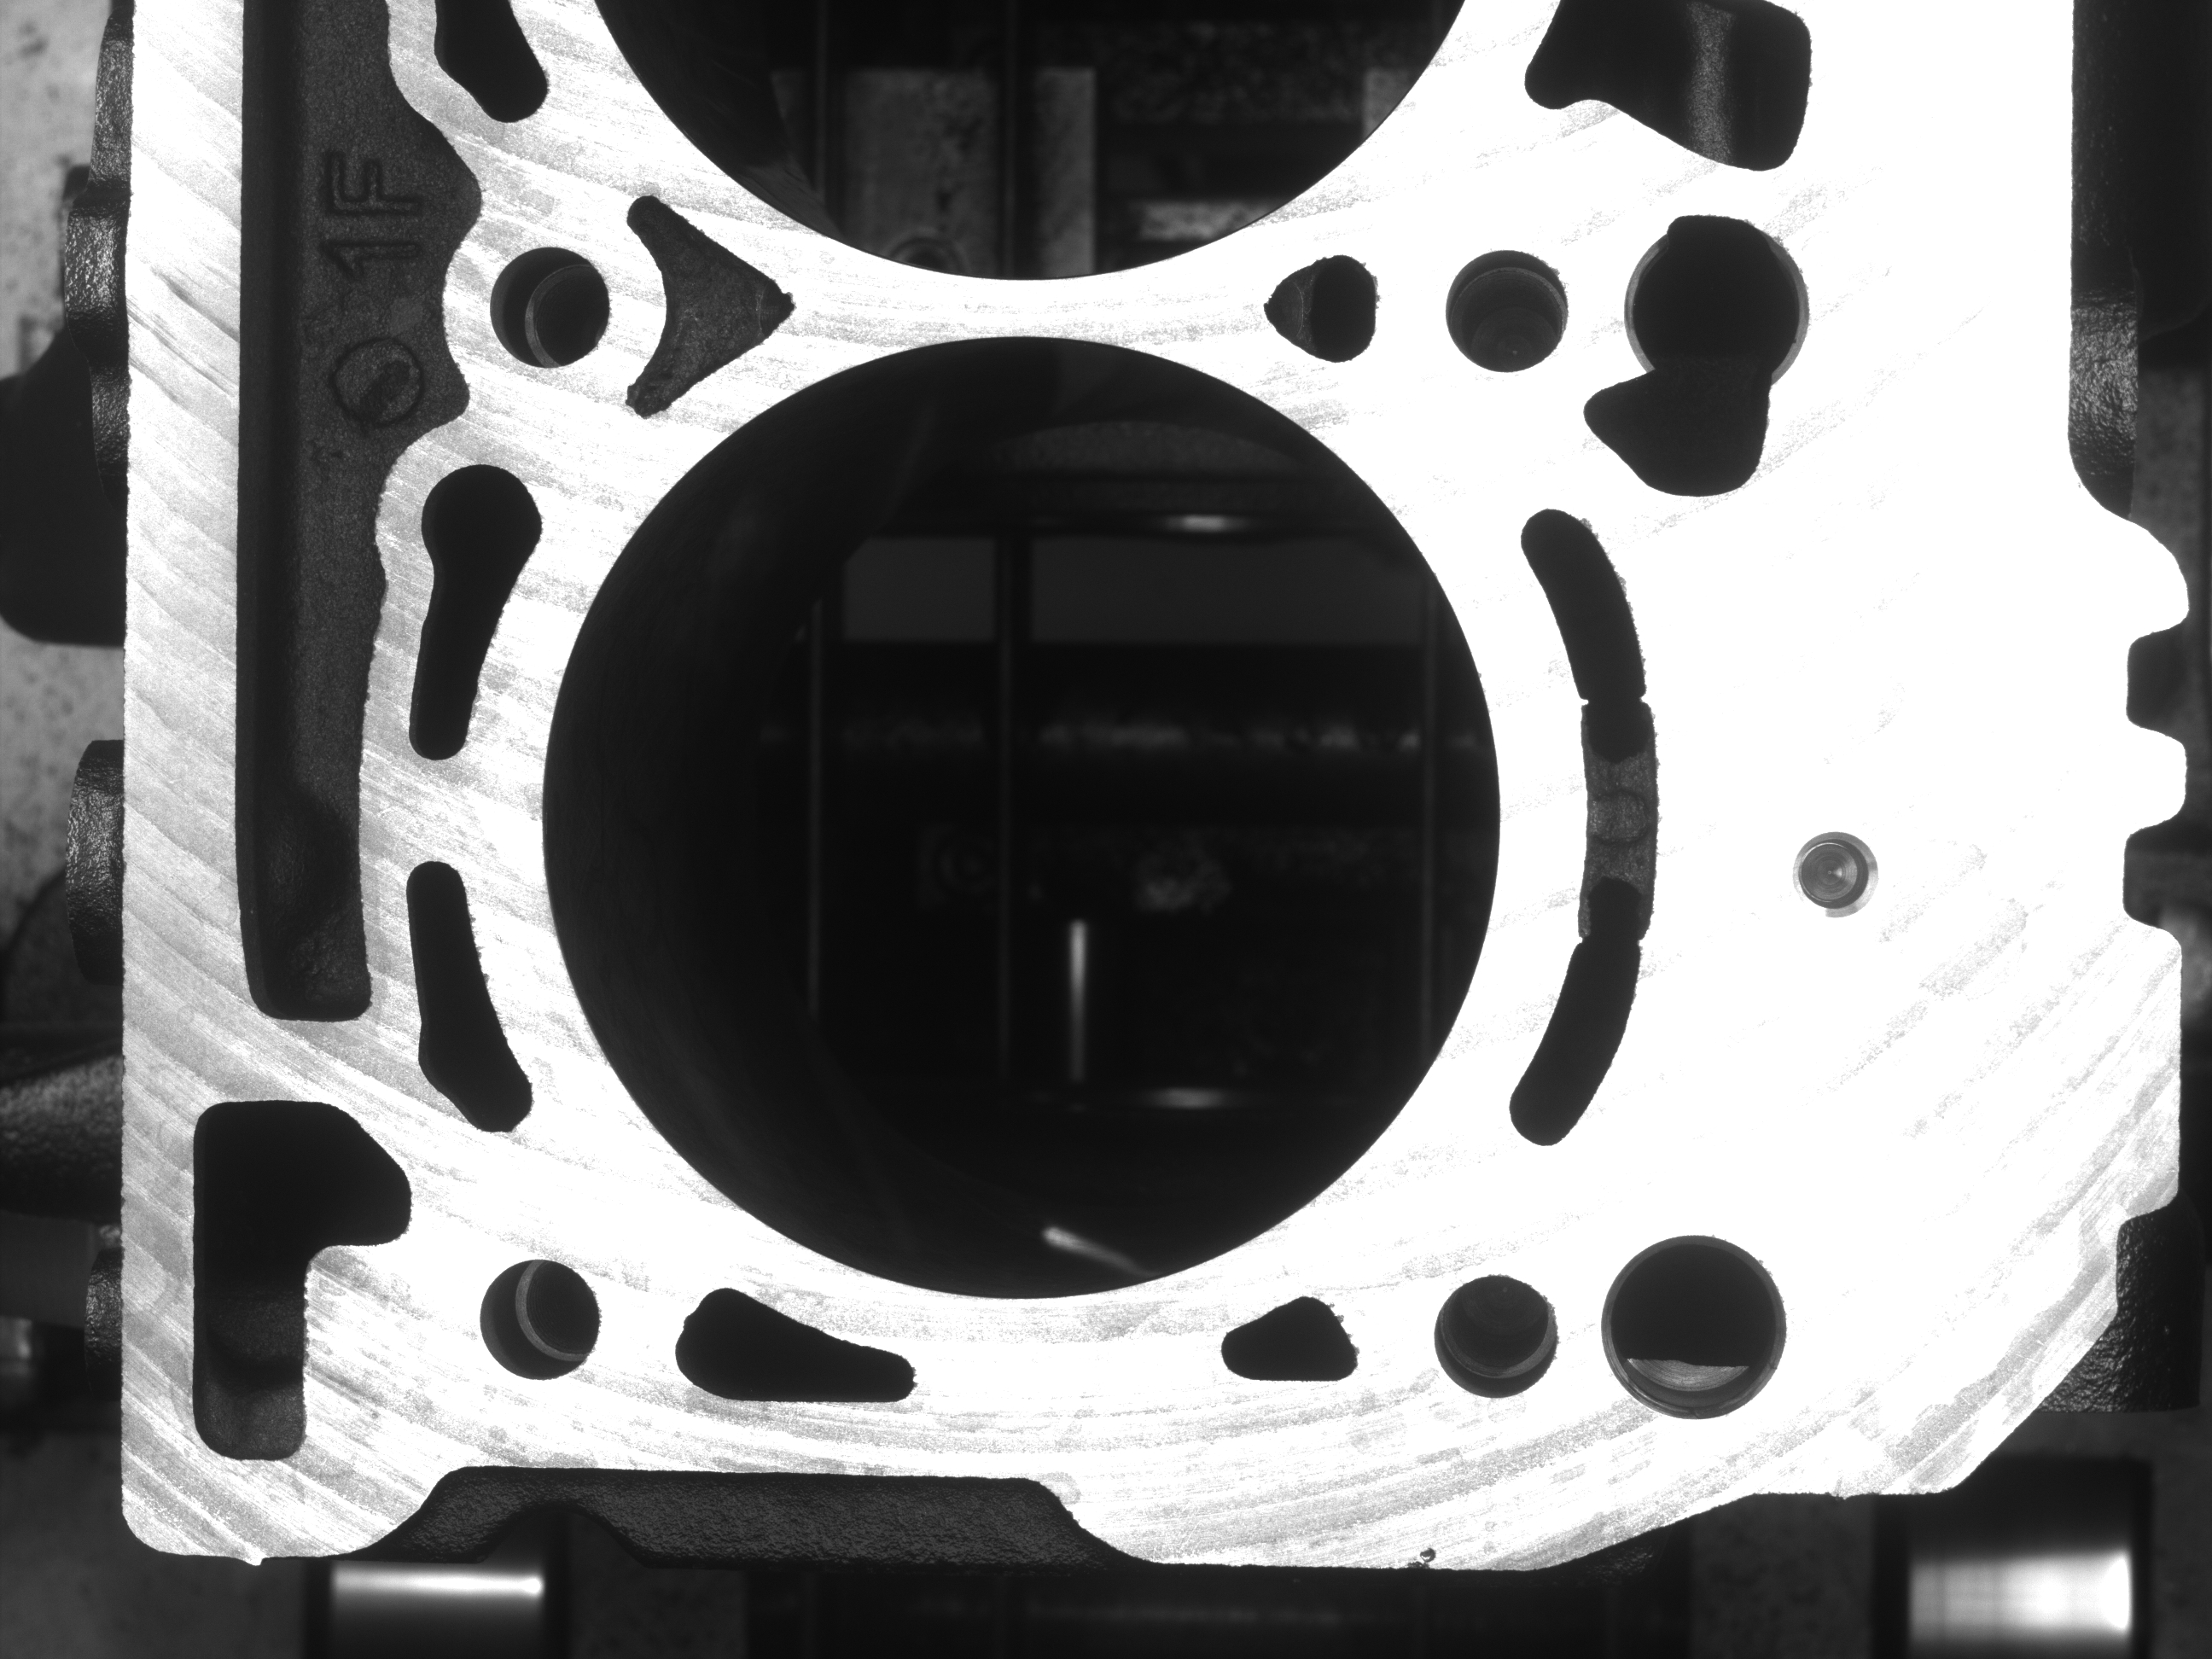shrinkage: (1374, 1521, 1456, 1565)
